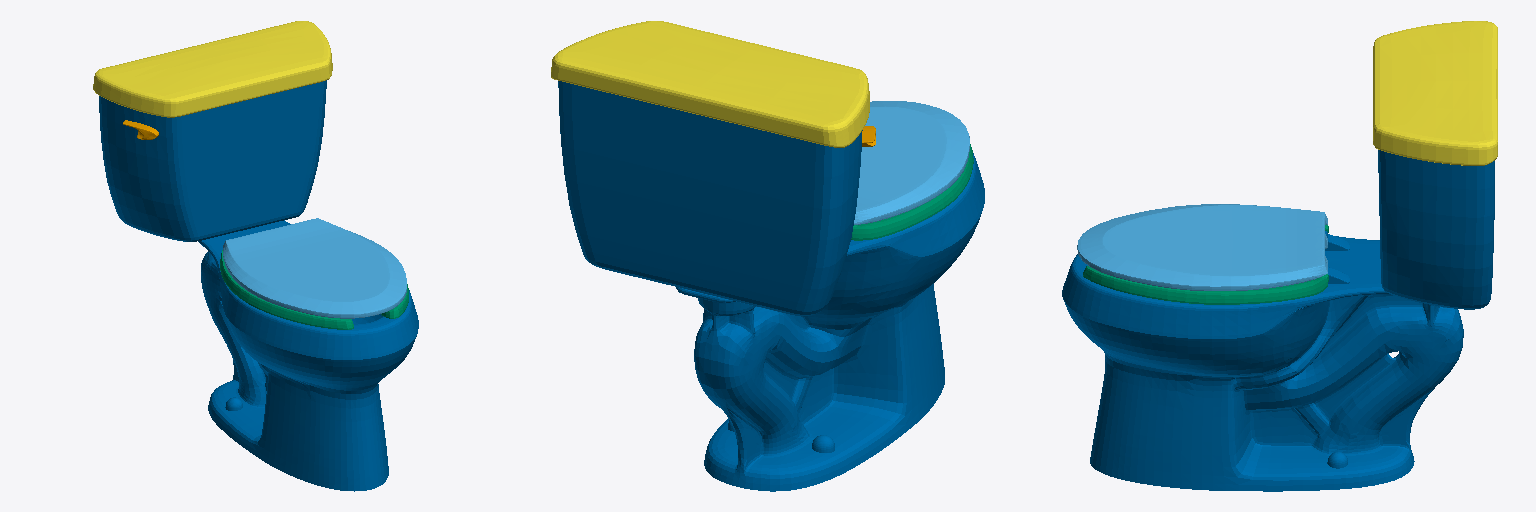
URDF robot description (102621):
<?xml version="1.0" ?>
<robot name="102621" version="1.0">
  <link name="link_0">
    <inertial>
      <origin rpy="0.0 0.0 0.0" xyz="0.0 0.0 0.0"/>
      <mass value="0.0"/>
      <inertia ixx="0.001" ixy="0.0" ixz="0.0" iyy="0.001" iyz="0.0" izz="0.001"/>
    </inertial>
    <visual name="link_0___3">
      <origin rpy="0.0 0.0 0.0" xyz="0.43970134167816566 -0.27999173164615954 -0.5636205013744164"/>
      <geometry>
        <mesh filename="shape/visual/link_0_m3_vm.obj"/>
      </geometry>
    </visual>
    <collision>
      <origin rpy="0.0 0.0 0.0" xyz="0.43970134167816566 -0.27999173164615954 -0.5636205013744164"/>
      <geometry>
        <mesh filename="shape/collision/link_0_cm.obj"/>
      </geometry>
    </collision>
  </link>
  <link name="link_1">
    <inertial>
      <origin rpy="0.0 0.0 0.0" xyz="0.0 0.0 0.0"/>
      <mass value="0.0"/>
      <inertia ixx="0.001" ixy="0.0" ixz="0.0" iyy="0.001" iyz="0.0" izz="0.001"/>
    </inertial>
    <visual name="link_1___2">
      <origin rpy="0.0 0.0 0.0" xyz="0.0 -0.03936250156839384 -0.08623833640126832"/>
      <geometry>
        <mesh filename="shape/visual/link_1_m2_vm.obj"/>
      </geometry>
    </visual>
    <collision>
      <origin rpy="0.0 0.0 0.0" xyz="0.0 -0.03936250156839384 -0.08623833640126832"/>
      <geometry>
        <mesh filename="shape/collision/link_1_cm.obj"/>
      </geometry>
    </collision>
  </link>
  <link name="link_2">
    <inertial>
      <origin rpy="0.0 0.0 0.0" xyz="0.0 0.0 0.0"/>
      <mass value="0.0"/>
      <inertia ixx="0.001" ixy="0.0" ixz="0.0" iyy="0.001" iyz="0.0" izz="0.001"/>
    </inertial>
    <visual name="link_2___2">
      <origin rpy="0.0 0.0 0.0" xyz="0.0 -0.03936250156839384 -0.08623833640126832"/>
      <geometry>
        <mesh filename="shape/visual/link_2_m2_vm.obj"/>
      </geometry>
    </visual>
    <collision>
      <origin rpy="0.0 0.0 0.0" xyz="0.0 -0.03936250156839384 -0.08623833640126832"/>
      <geometry>
        <mesh filename="shape/collision/link_2_cm.obj"/>
      </geometry>
    </collision>
  </link>
  <link name="link_3">
    <inertial>
      <origin rpy="0.0 0.0 0.0" xyz="0.0 0.0 0.0"/>
      <mass value="0.0"/>
      <inertia ixx="0.001" ixy="0.0" ixz="0.0" iyy="0.001" iyz="0.0" izz="0.001"/>
    </inertial>
    <visual name="link_3___1">
      <origin rpy="0.0 0.0 0.0" xyz="0.052322038705573115 -0.5060995377345119 -0.7277991002285853"/>
      <geometry>
        <mesh filename="shape/visual/link_3_m1_vm.obj"/>
      </geometry>
    </visual>
    <collision>
      <origin rpy="0.0 0.0 0.0" xyz="0.052322038705573115 -0.5060995377345119 -0.7277991002285853"/>
      <geometry>
        <mesh filename="shape/collision/link_3_cm.obj"/>
      </geometry>
    </collision>
  </link>
  <link name="base_link">
    <inertial>
      <origin rpy="0.0 0.0 0.0" xyz="0.0 0.0 0.0"/>
      <mass value="0.0"/>
      <inertia ixx="0.001" ixy="0.0" ixz="0.0" iyy="0.001" iyz="0.0" izz="0.001"/>
    </inertial>
    <visual name="link_4___1">
      <origin rpy="0.0 0.0 0.0" xyz="0.0 -0.0 0.0"/>
      <geometry>
        <mesh filename="shape/visual/link_4_m1_vm.obj"/>
      </geometry>
    </visual>
    <collision>
      <origin rpy="0.0 0.0 0.0" xyz="0.0 -0.0 0.0"/>
      <geometry>
        <mesh filename="shape/collision/link_4_cm.obj"/>
      </geometry>
    </collision>
  </link>
  <joint name="joint_0" type="revolute">
    <origin rpy="0.0 0.0 0.0" xyz="-0.43970134167816566 0.27999173164615954 0.5636205013744164"/>
    <axis xyz="-0.6417824432178281 -0.7666905658650205 -0.017345656255379007"/>
    <parent link="base_link"/>
    <child link="link_0"/>
    <limit lower="-0.0" upper="0.5717698629533422"/>
  </joint>
  <joint name="joint_1" type="revolute">
    <origin rpy="0.0 0.0 0.0" xyz="0.0 0.03936250156839384 0.08623833640126832"/>
    <axis xyz="-1.0 -0.0 0.0"/>
    <parent link="base_link"/>
    <child link="link_1"/>
    <limit lower="-0.0" upper="1.710422666954443"/>
  </joint>
  <joint name="joint_2" type="revolute">
    <origin rpy="0.0 0.0 0.0" xyz="0.0 0.03936250156839384 0.08623833640126832"/>
    <axis xyz="-1.0 -0.0 0.0"/>
    <parent link="base_link"/>
    <child link="link_2"/>
    <limit lower="-0.0" upper="1.710422666954443"/>
  </joint>
  <joint name="joint_3" type="prismatic">
    <origin rpy="0.0 0.0 0.0" xyz="-0.052322038705573115 0.5060995377345119 0.7277991002285853"/>
    <axis xyz="-0.005104721319804252 0.02642116669685537 0.9996378663149093"/>
    <parent link="base_link"/>
    <child link="link_3"/>
    <limit lower="0.0" upper="0.02"/>
  </joint>
</robot>

--- Render facts (derived) ---
Views: 3 orthographic renders of the robot side by side, from view 1: azimuth 30°, elevation 25°; view 2: azimuth 150°, elevation 25°; view 3: azimuth 270°, elevation 25°.
Robot: 102621 — 5 links, 4 joints (3 revolute, 1 prismatic); root link base_link; default pose: all joints at 0.
Visible links, largest first — view 1: base_link, link_3, link_1, link_2; view 2: base_link, link_3, link_1, link_2; view 3: base_link, link_1, link_3, link_2.
Link boxes in pixels (x1,y1,x2,y2): base_link: [99, 80, 418, 491]; link_3: [93, 21, 332, 117]; link_1: [223, 218, 406, 318]; link_2: [220, 250, 408, 329]; base_link: [558, 81, 984, 491]; link_3: [551, 21, 869, 147]; link_1: [854, 101, 969, 224]; link_2: [851, 144, 973, 240]; base_link: [1062, 150, 1494, 491]; link_1: [1077, 204, 1327, 290]; link_3: [1373, 21, 1497, 165]; link_2: [1083, 225, 1328, 304].
Size in the robot's own frame: 1.02 by 1.47 by 1.42 metres.
5 mesh visuals loaded from 5 distinct referenced files (5 OBJ).